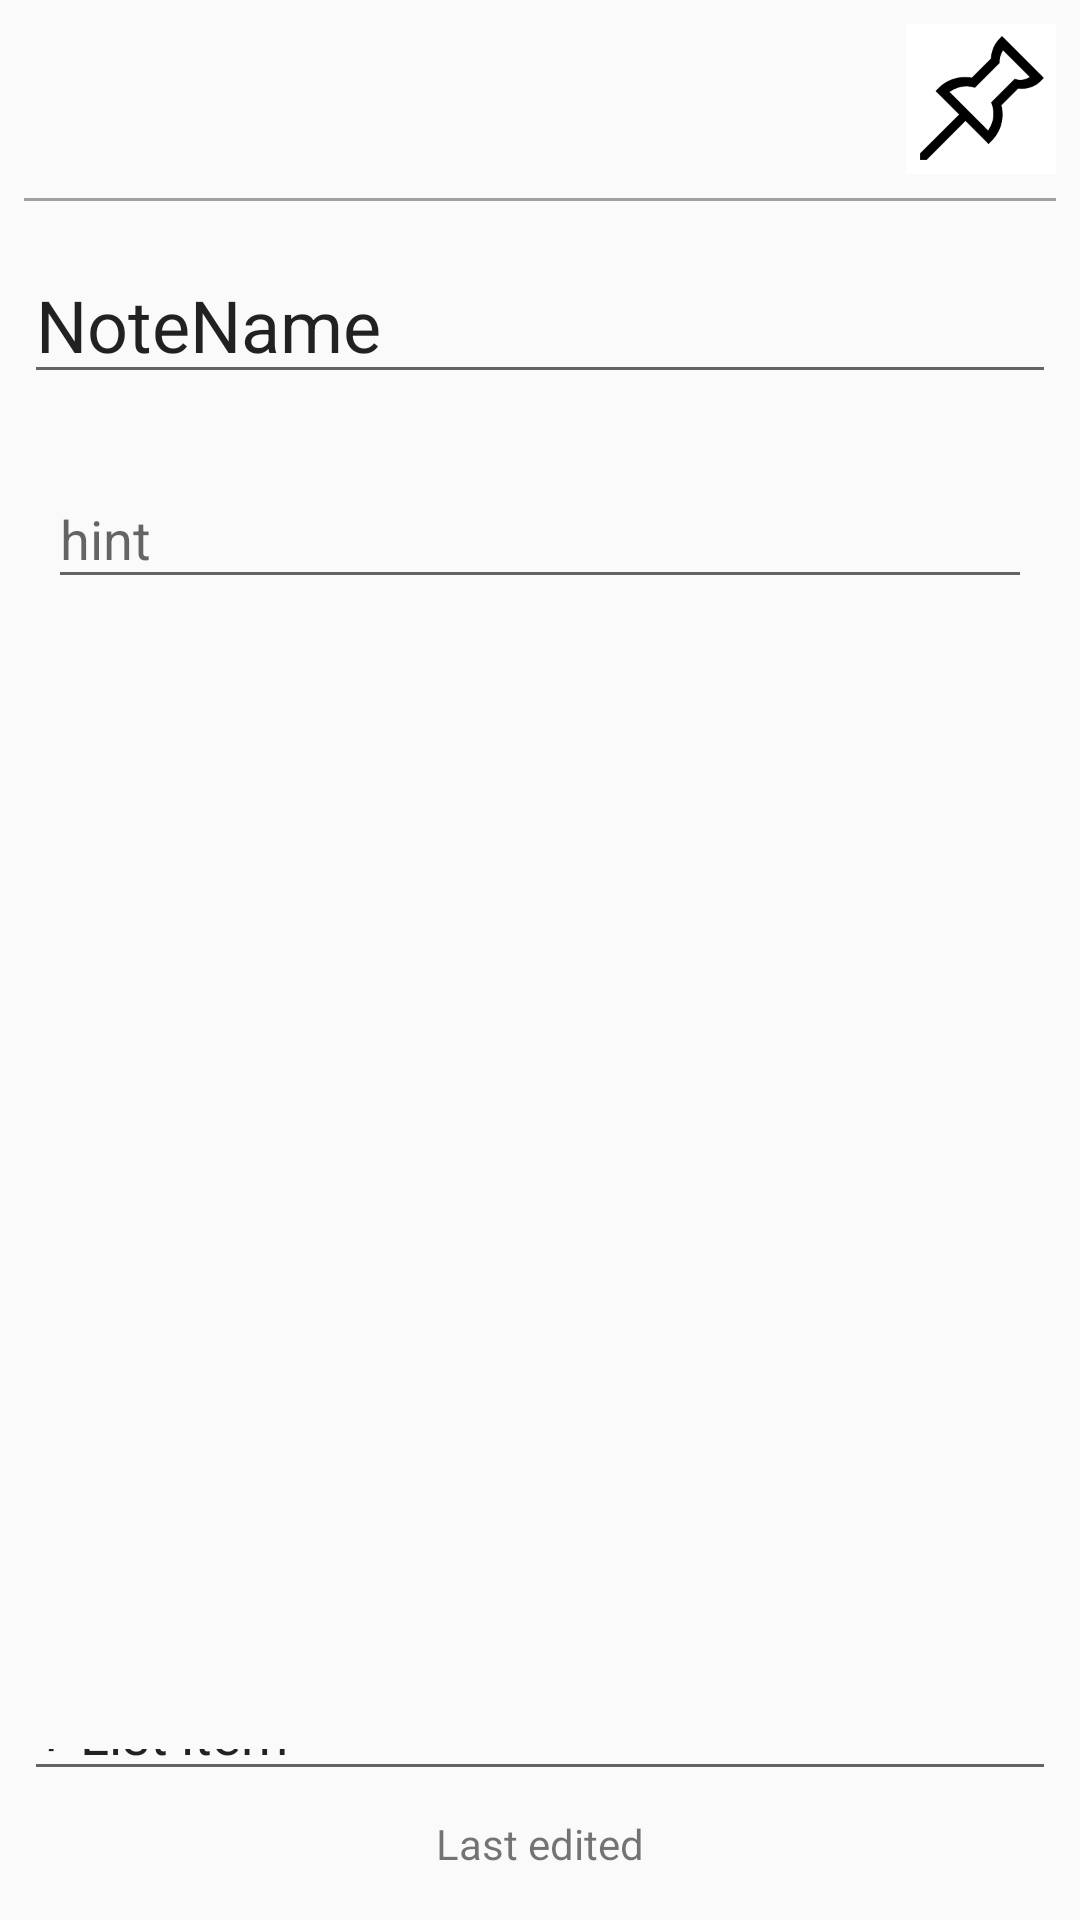

Screen size 1080x1920. Icon name, then its center in pixels as (x=x, y=y):
pin: (x=982, y=98)
